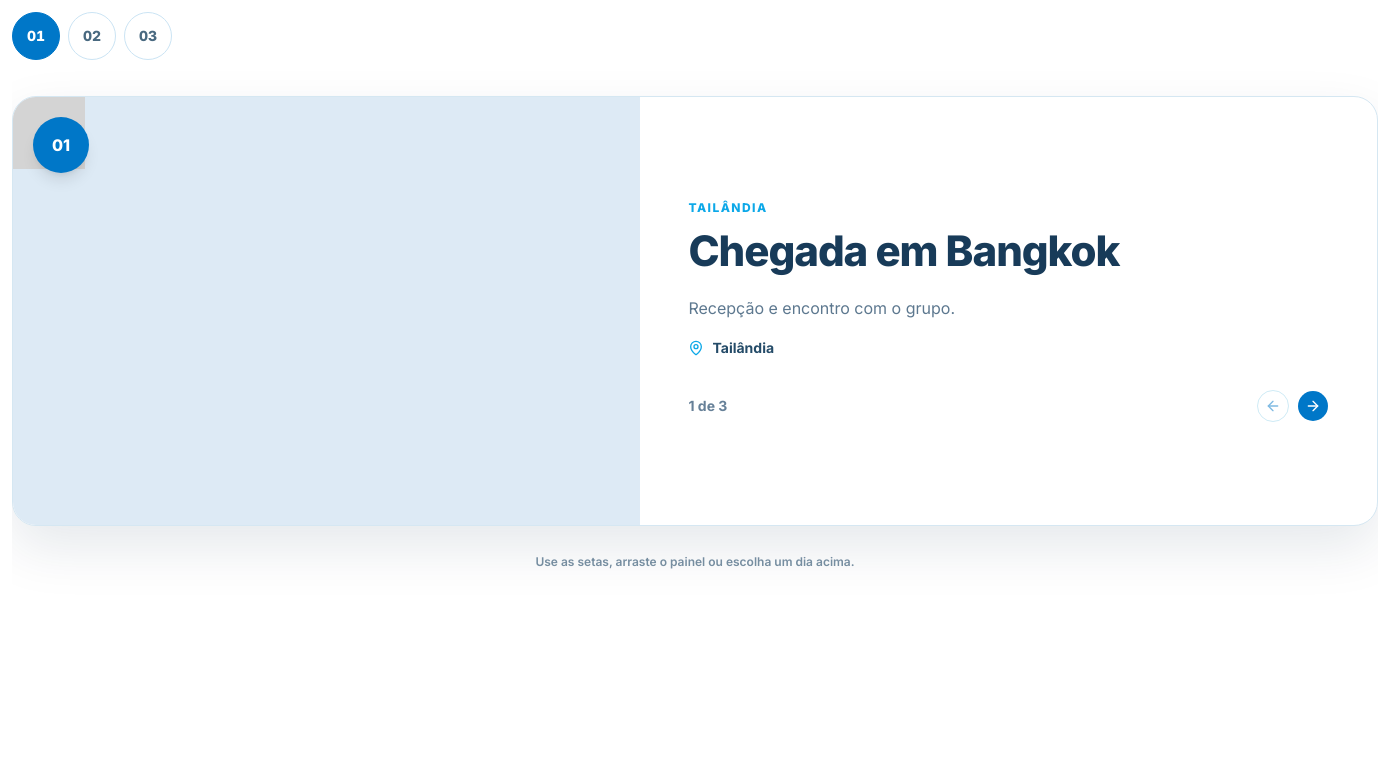
it: CaravanItineraryCarousel › permite selecionar um dia pela linha do tempo
Click the tab named "Dia 02" at (92, 36), box [68,12,116,60]
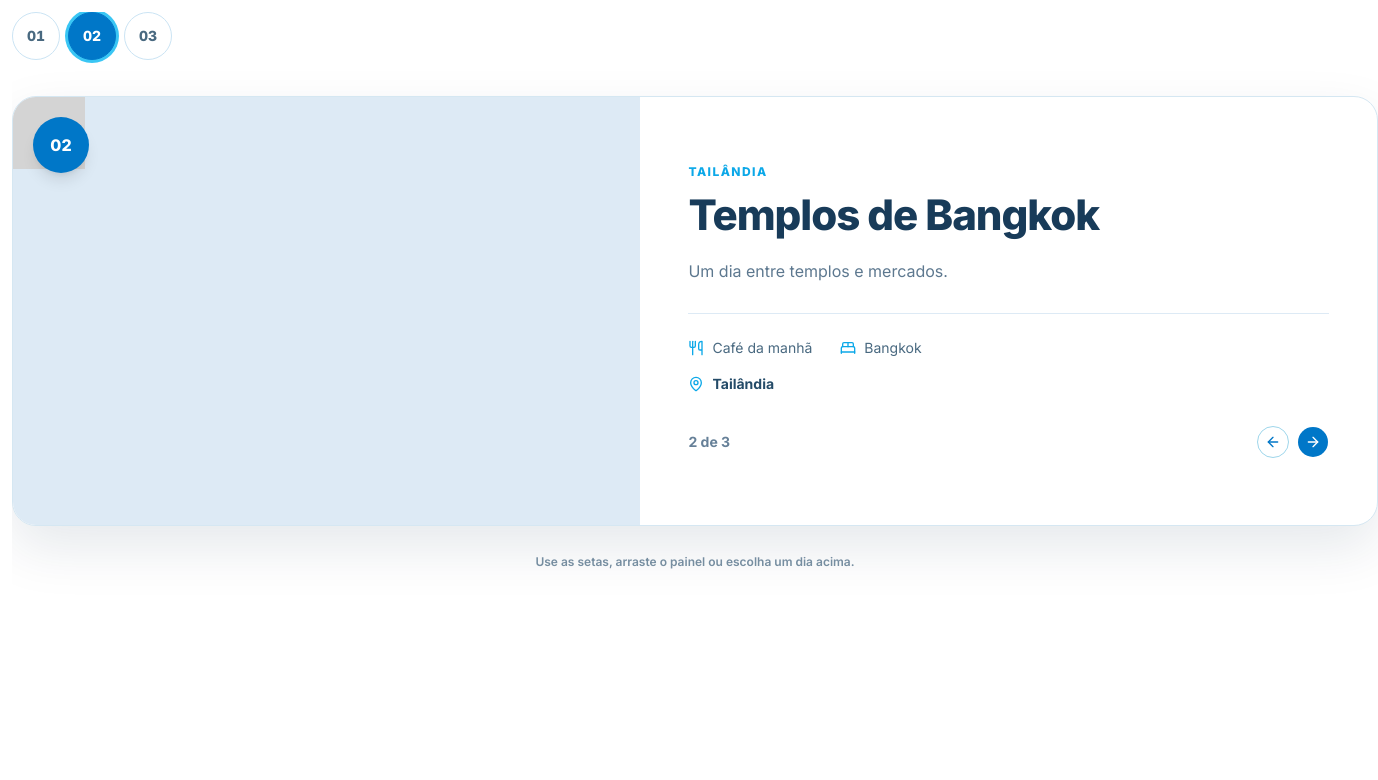
Expected: the heading "Templos de Bangkok" is shown, [688,189,1099,240]
Expected: the text "Café da manhã" is shown, [688,338,812,358]
